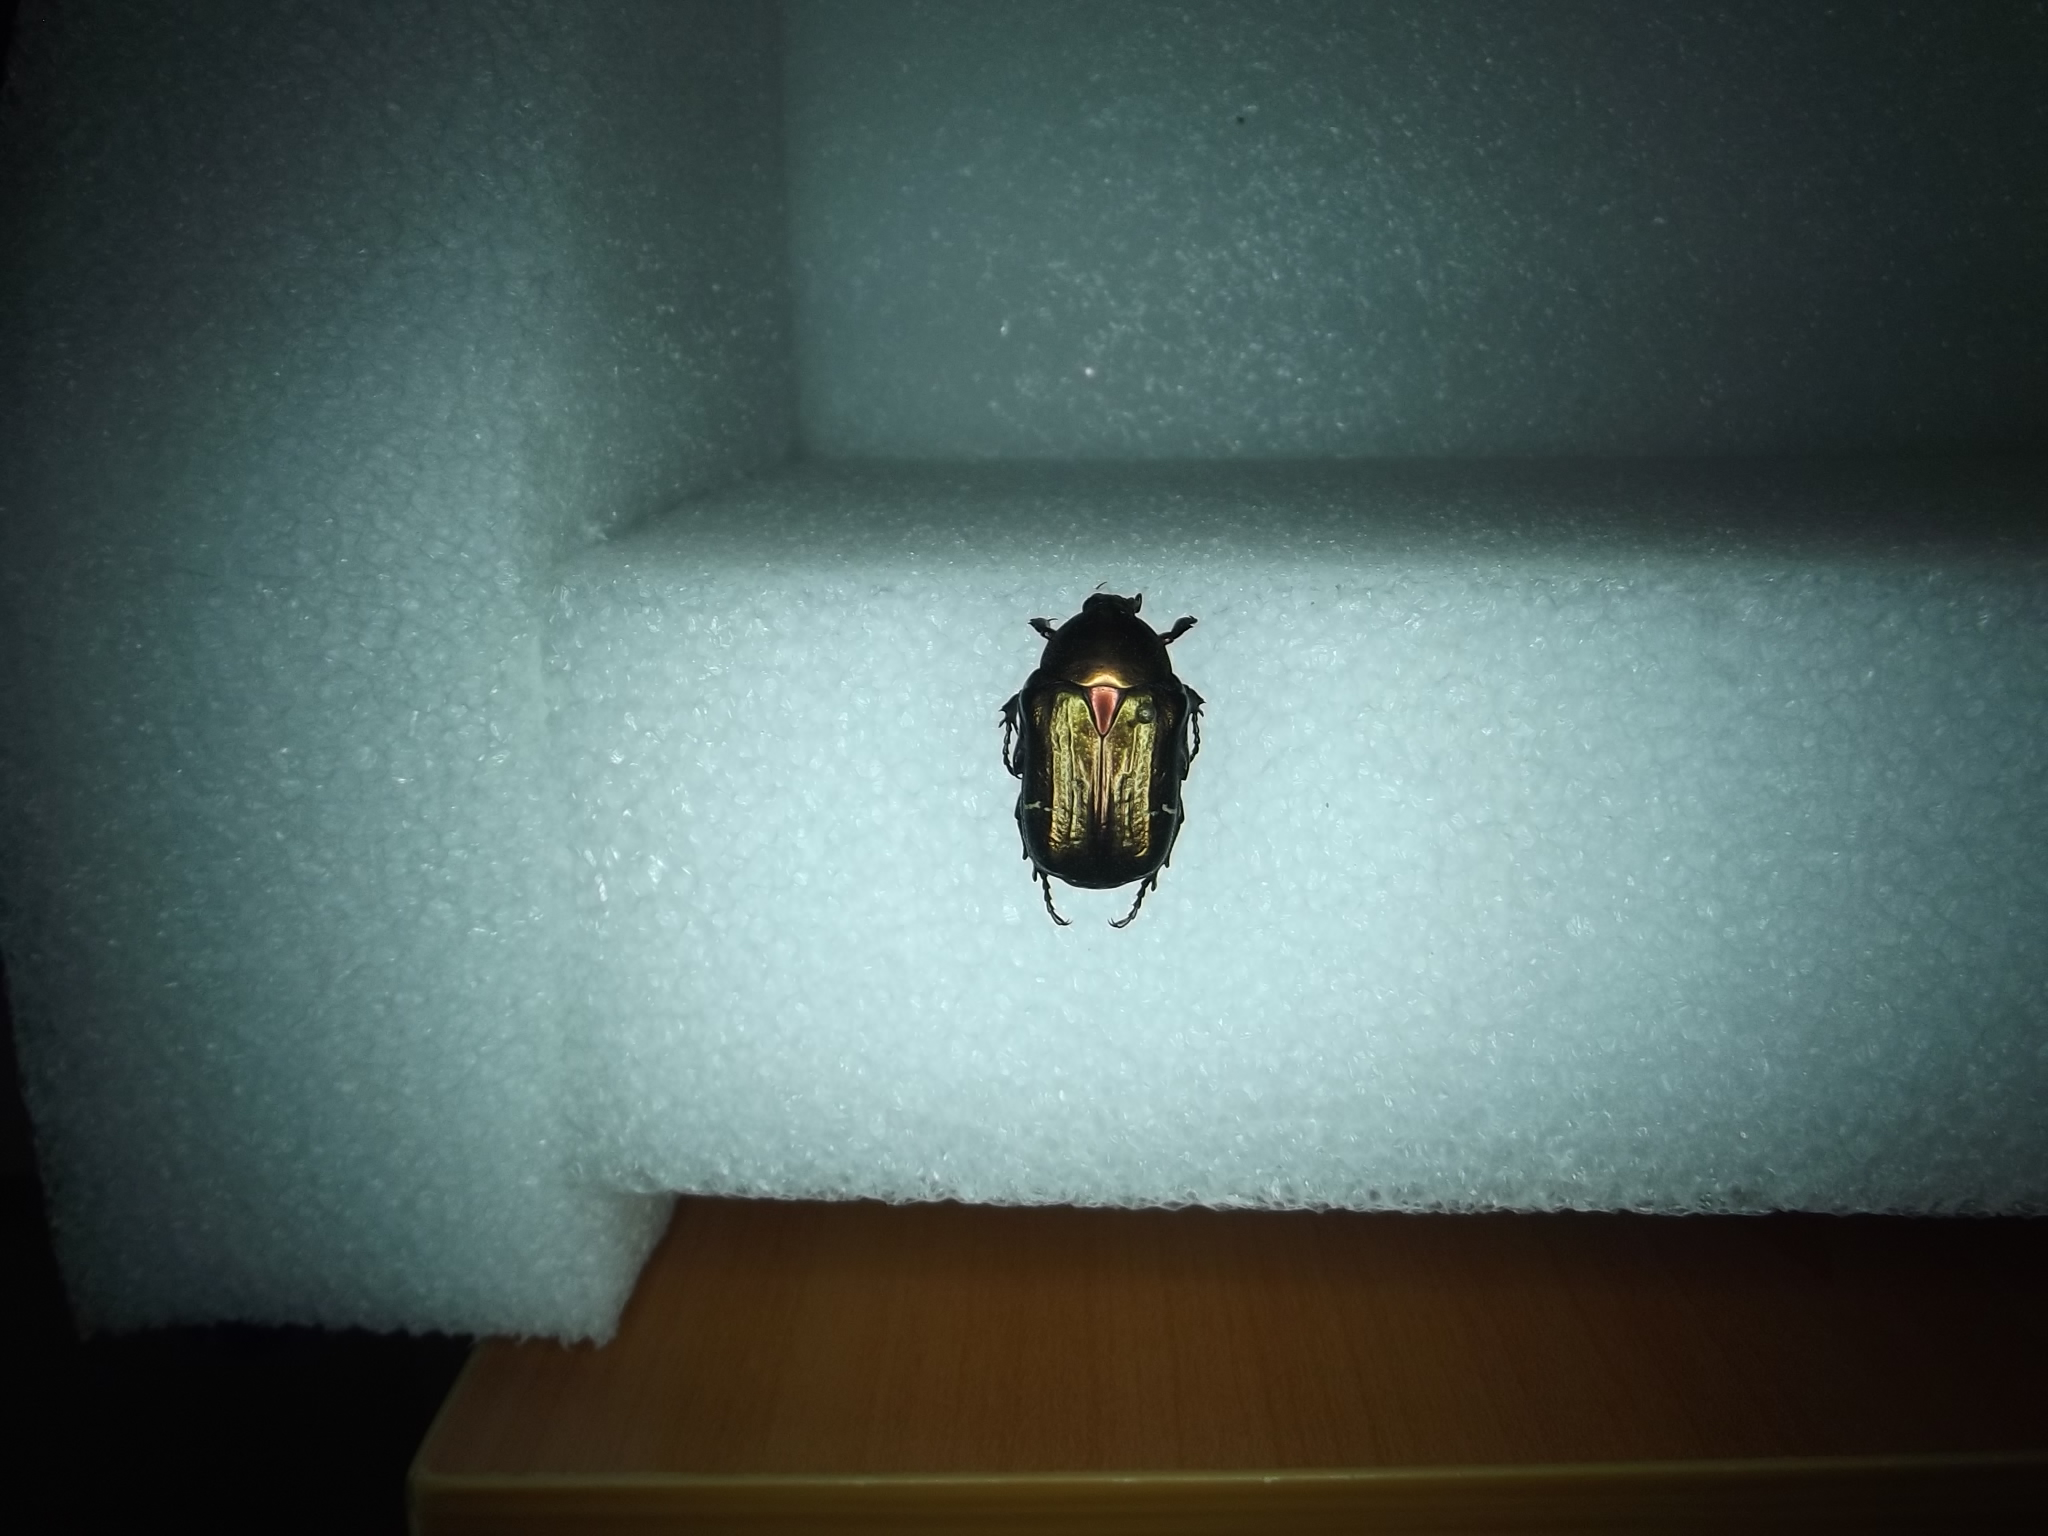Cetonia_kemali: (984, 587, 1222, 944)
